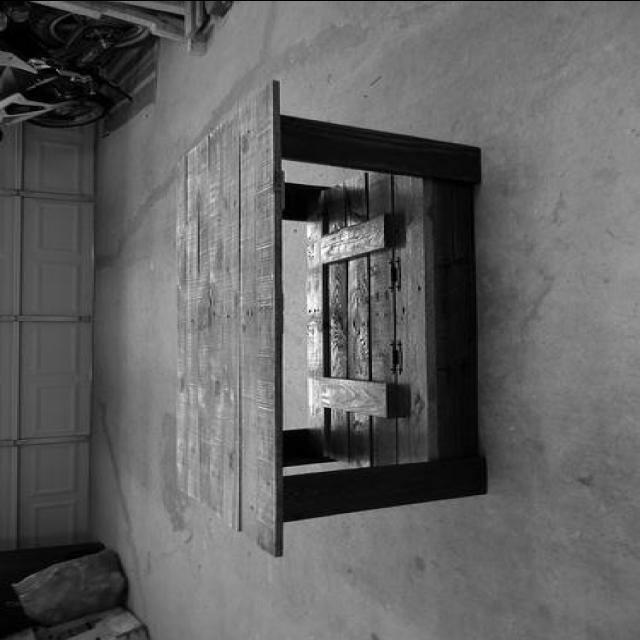table: (174, 77, 482, 555)
